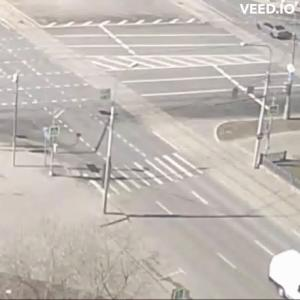car: (266, 252, 300, 299)
